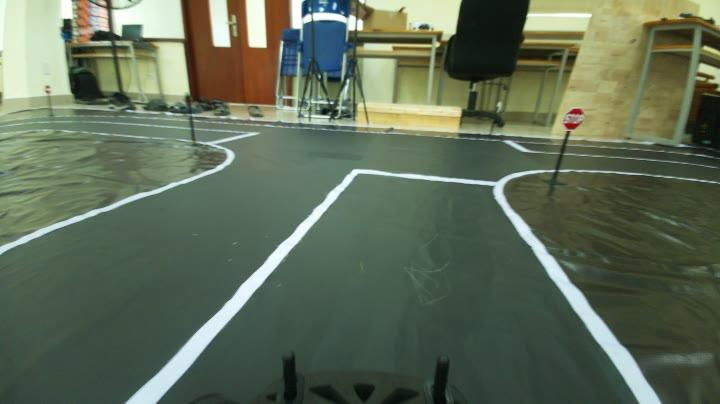stop: (559, 102, 589, 133)
